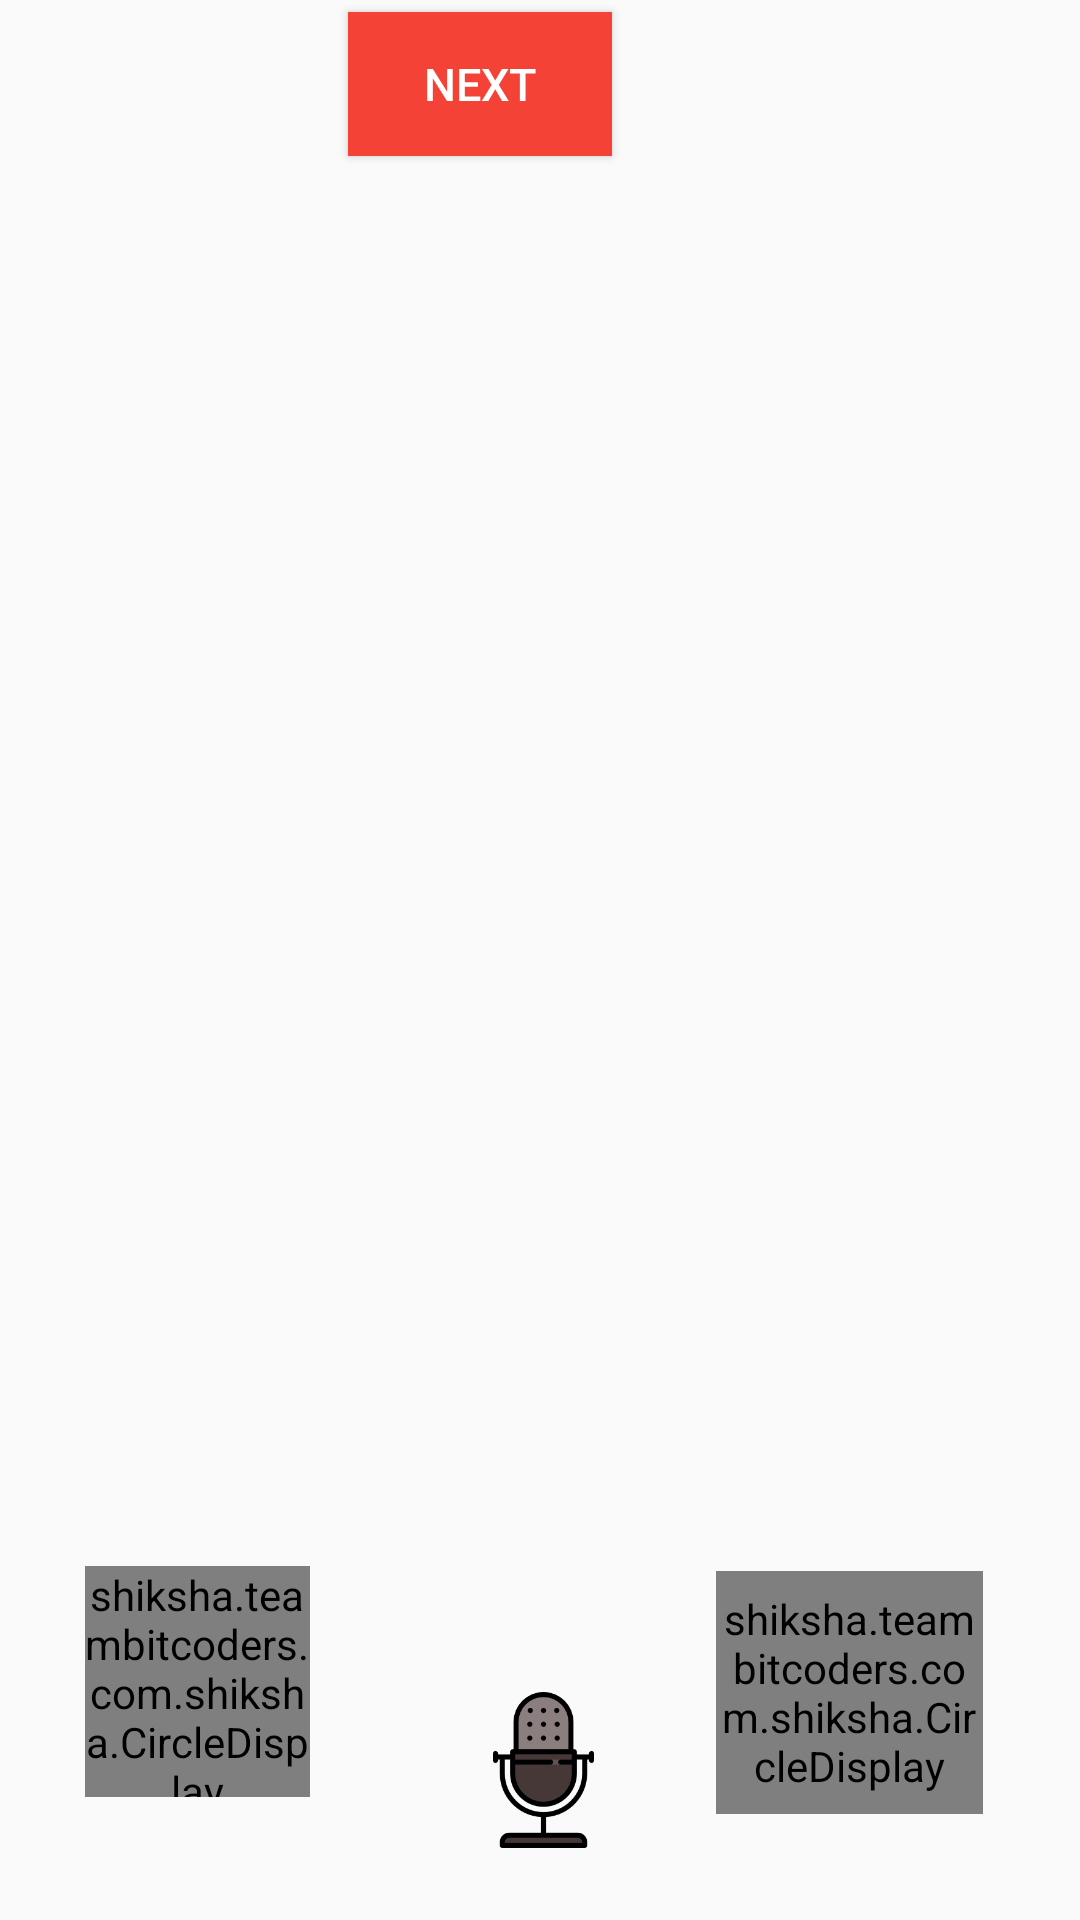

Locate icon controls on the screen. Image size 1080*1920, boxes as (x1, y1, x2, y2).
mic: (493, 1692, 594, 1848)
